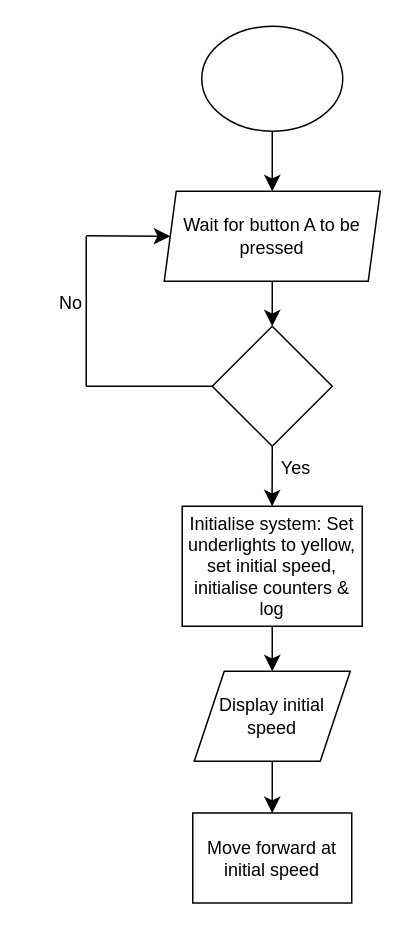
Image size: 407x930. Some labels were removed from this diagram. Here are the shapes that lost their labels. From the top down, the box of each, then its label:
(200, 25, 343, 131): Start
(211, 325, 332, 446): Button A pressed?
